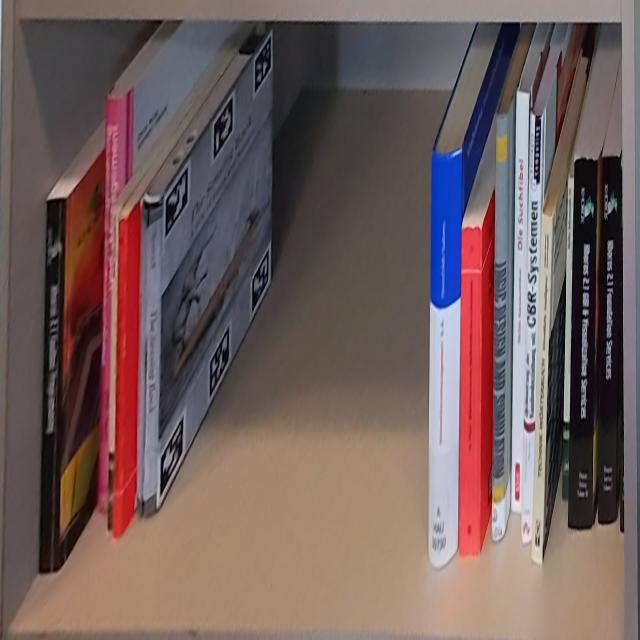Book Spine: (428, 147, 461, 566), (96, 93, 129, 509), (39, 195, 68, 574), (568, 157, 597, 532), (521, 111, 545, 543), (530, 214, 554, 563), (598, 155, 620, 525), (512, 90, 531, 513), (490, 113, 508, 540), (460, 226, 481, 556), (145, 205, 163, 518), (113, 215, 128, 537), (106, 205, 120, 532), (134, 199, 148, 518), (561, 178, 572, 500)
